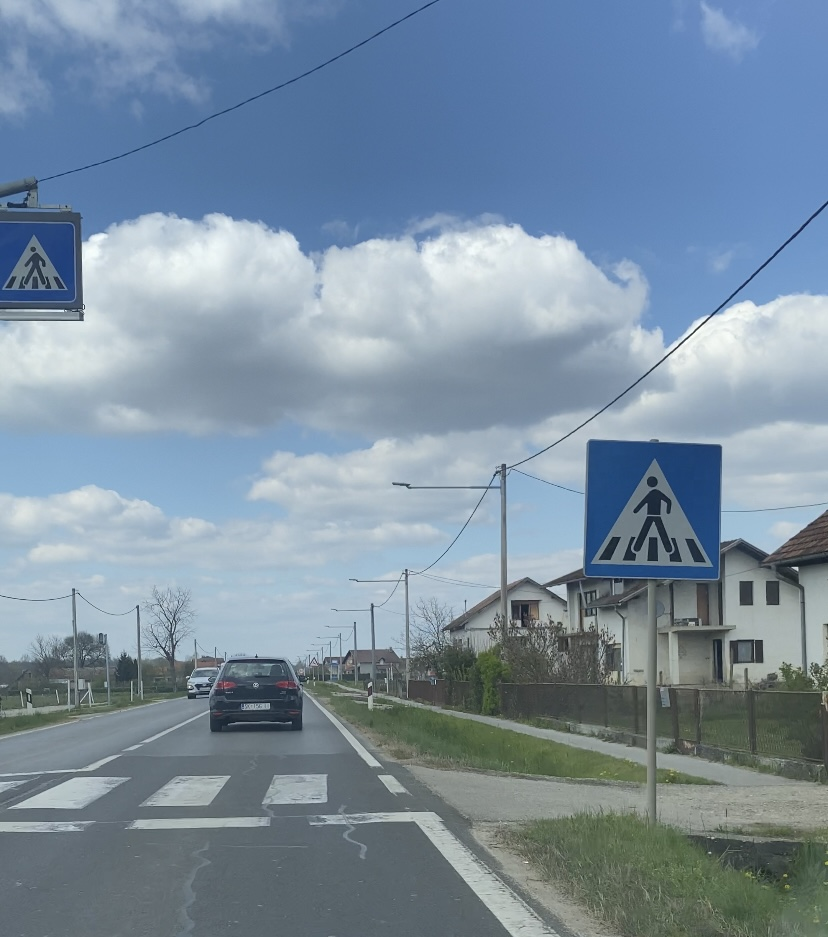Pješački prijelaz: (582, 439, 723, 580), (1, 222, 76, 303)
